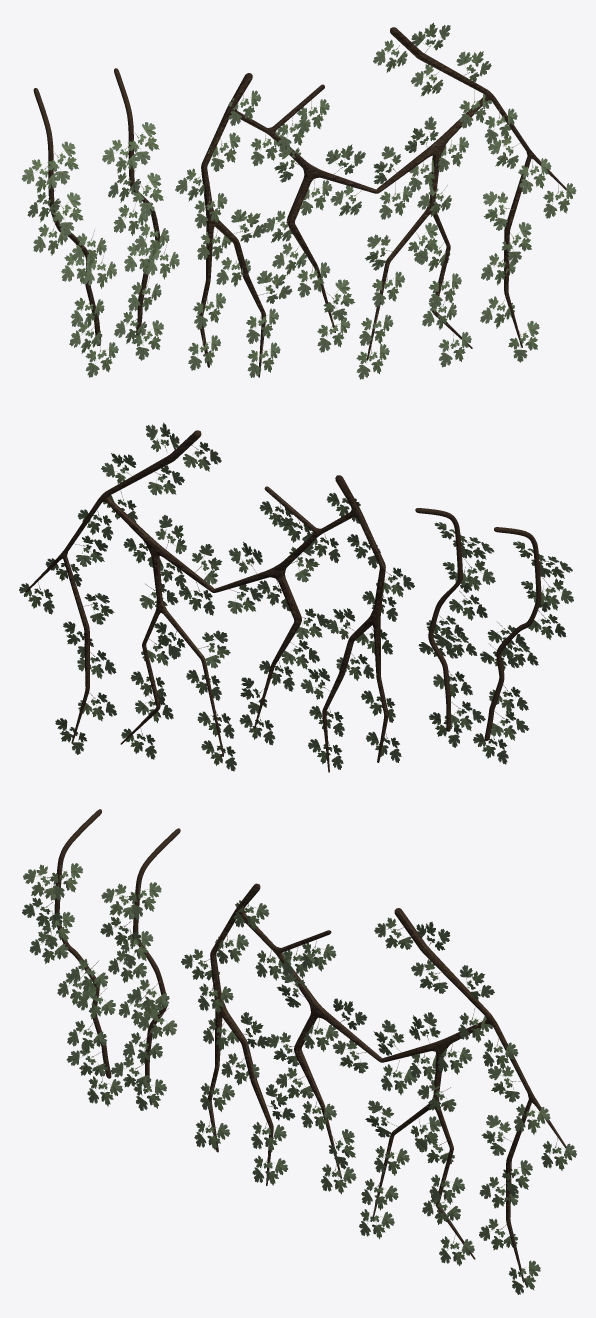
The model's file is Amazonie_Lierre_3.fbx.
The picture shows the model from 3 angles, top to bottom: view 1: azimuth 30°, elevation 25°; view 2: azimuth 150°, elevation 25°; view 3: azimuth 330°, elevation 25°; orthographic projection. The views are drawn at different scales.
Visible parts, largest first — view 1: Plane.047, Plane.003, Plane, Plane.002; view 2: Plane.047, Plane.003, Plane.002, Plane; view 3: Plane.047, Plane.003, Plane.002, Plane.
Part boxes in pixels (<box>): Plane.047: <box>21,22,576,379</box>; Plane.003: <box>198,27,566,377</box>; Plane: <box>33,88,100,345</box>; Plane.002: <box>114,68,160,335</box>; Plane.047: <box>19,422,573,771</box>; Plane.003: <box>25,430,388,772</box>; Plane.002: <box>415,508,462,731</box>; Plane: <box>484,527,541,740</box>; Plane.047: <box>22,863,576,1294</box>; Plane.003: <box>207,883,566,1282</box>; Plane.002: <box>133,828,180,1087</box>; Plane: <box>54,809,111,1078</box>.
Bounding box in the file's own units: 4129 × 2615 × 544.
